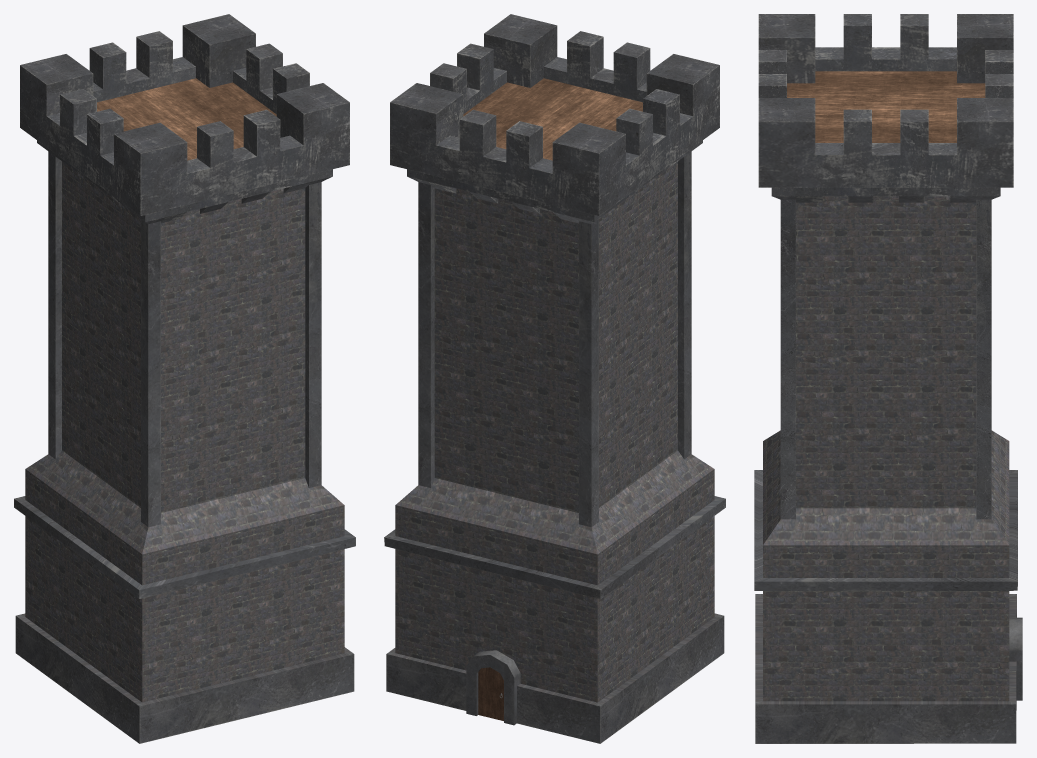
Rendered from wall_tower_1.fbx.
3 views of the same model, side by side, from view 1: azimuth 30°, elevation 25°; view 2: azimuth 150°, elevation 25°; view 3: azimuth 270°, elevation 25° (orthographic). The views are drawn at different scales.
Visible parts, largest first — view 1: Muralla3.005; view 2: Muralla3.005; view 3: Muralla3.005.
Part boxes in pixels (x1,y1,x2,y2): Muralla3.005: (14, 14, 355, 743); Muralla3.005: (384, 14, 725, 743); Muralla3.005: (754, 14, 1022, 743).
Size of the model in its own units: 161 by 419 by 164.
Materials: 3 (3 with a texture image).
